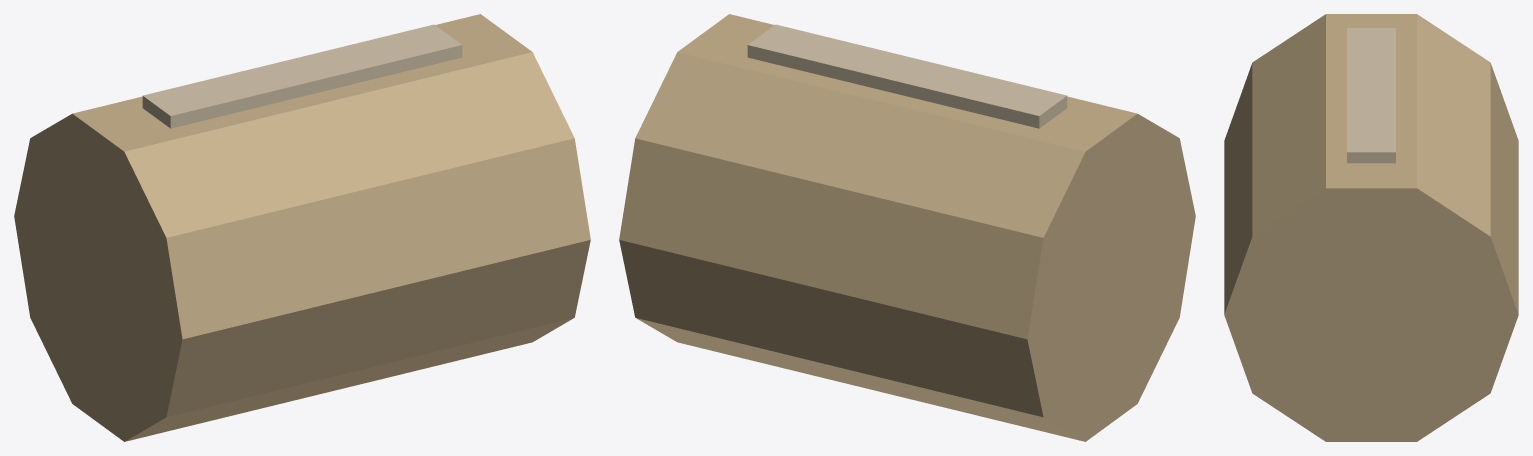
The model's file is Food_Bread.glb.
The picture shows the model from 3 angles, left to right: view 1: azimuth 30°, elevation 25°; view 2: azimuth 150°, elevation 25°; view 3: azimuth 270°, elevation 25°; orthographic projection. The views are drawn at different scales.
Visible parts, largest first — view 1: geometry_0; view 2: geometry_0; view 3: geometry_0.
Boxes of the visible parts, left/top/right/bottom form: geometry_0: left=14, top=14, right=590, bottom=441; geometry_0: left=619, top=14, right=1195, bottom=441; geometry_0: left=1224, top=14, right=1518, bottom=441.
Size of the model in its own units: 0.714 by 0.506 by 0.51.
